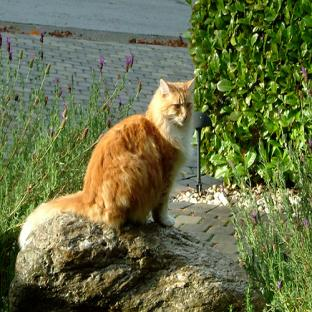Animal: (19, 78, 194, 246)
